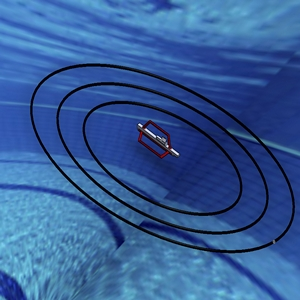circle: (11, 53, 299, 262)
submarine: (131, 116, 177, 168)
